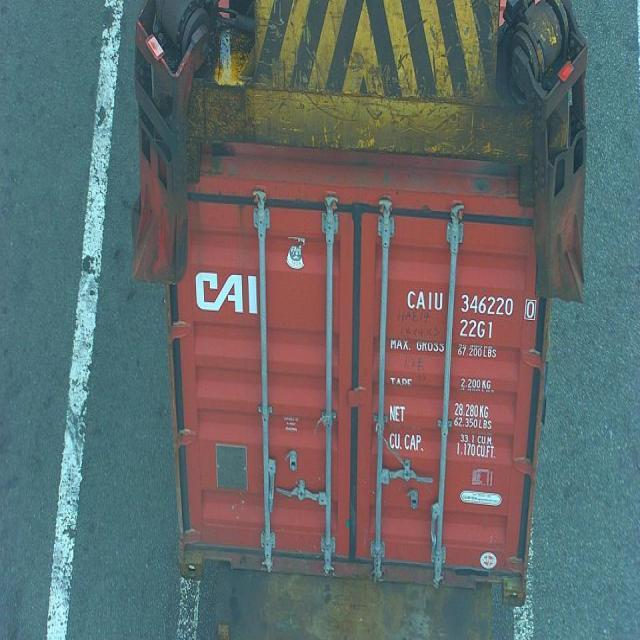ISO: (458, 318, 497, 339)
container_number: (406, 284, 538, 322)
